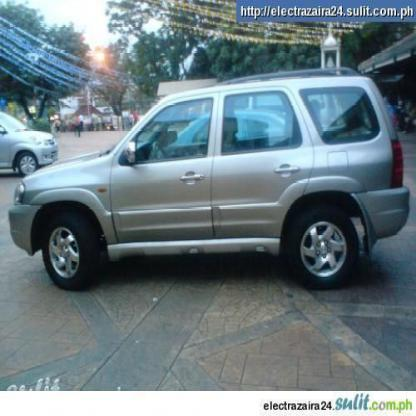Vehicle: (7, 66, 413, 292)
